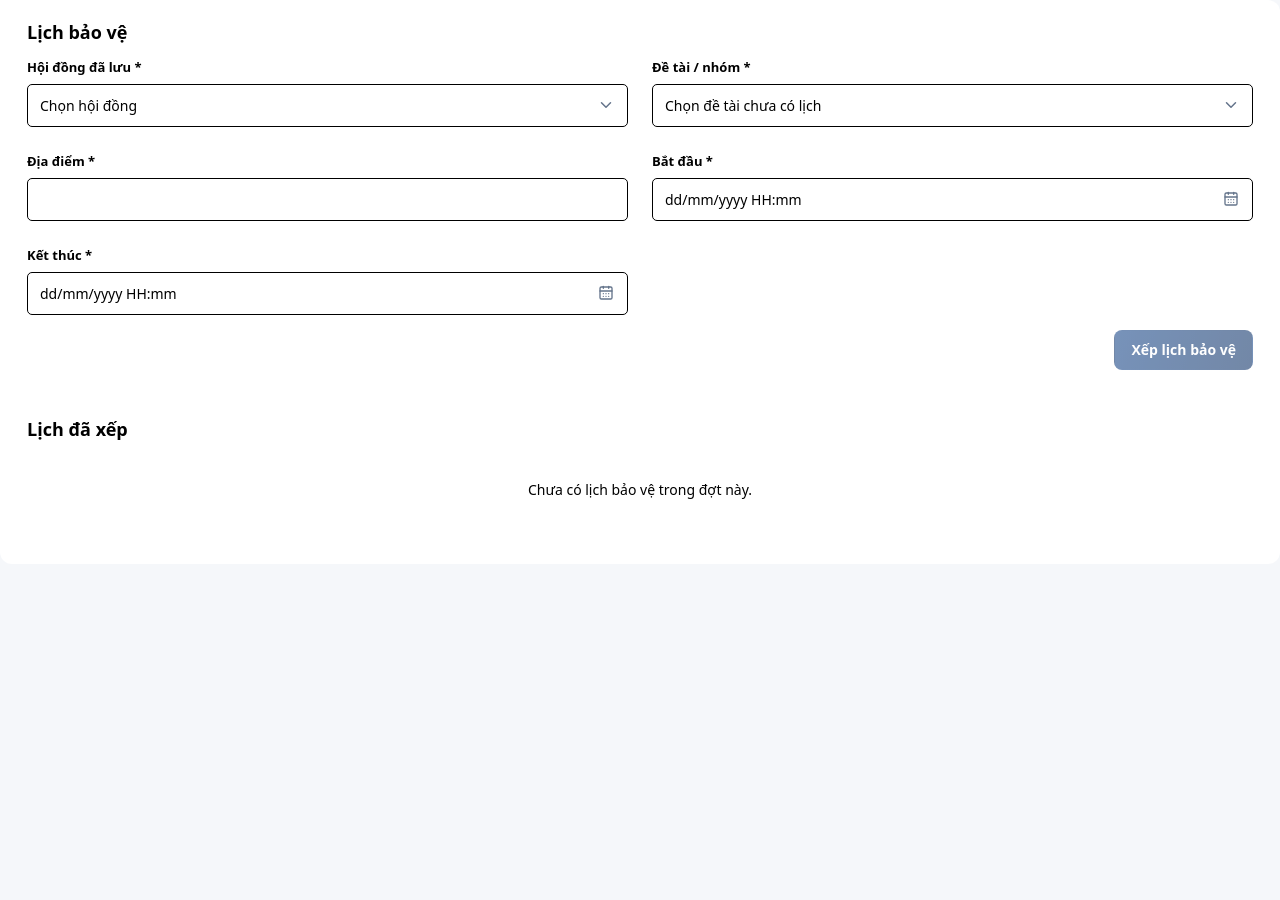
it: xác nhận đủ tên đề tài, nhóm, hội đồng và chỉ cho chọn đề tài cùng đợt
Select "Hội đồng A" in the dropdown labelled "Hội đồng đã lưu *" at (328, 105), box [27,84,628,126]
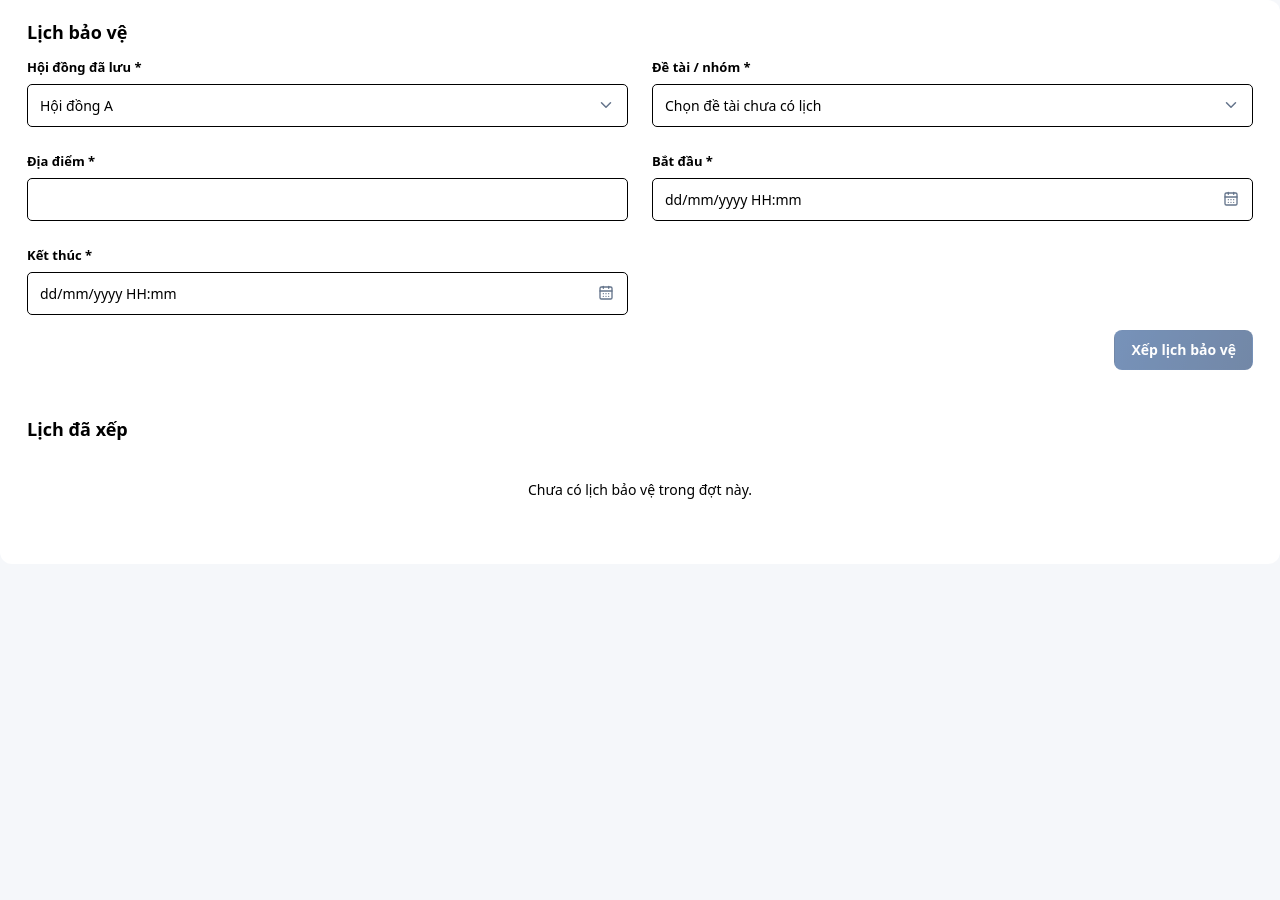
Select "DT01 · Quản lý đề tài · Nhóm A" in the dropdown labelled "Đề tài / nhóm *" at (952, 105), box [652,84,1253,126]
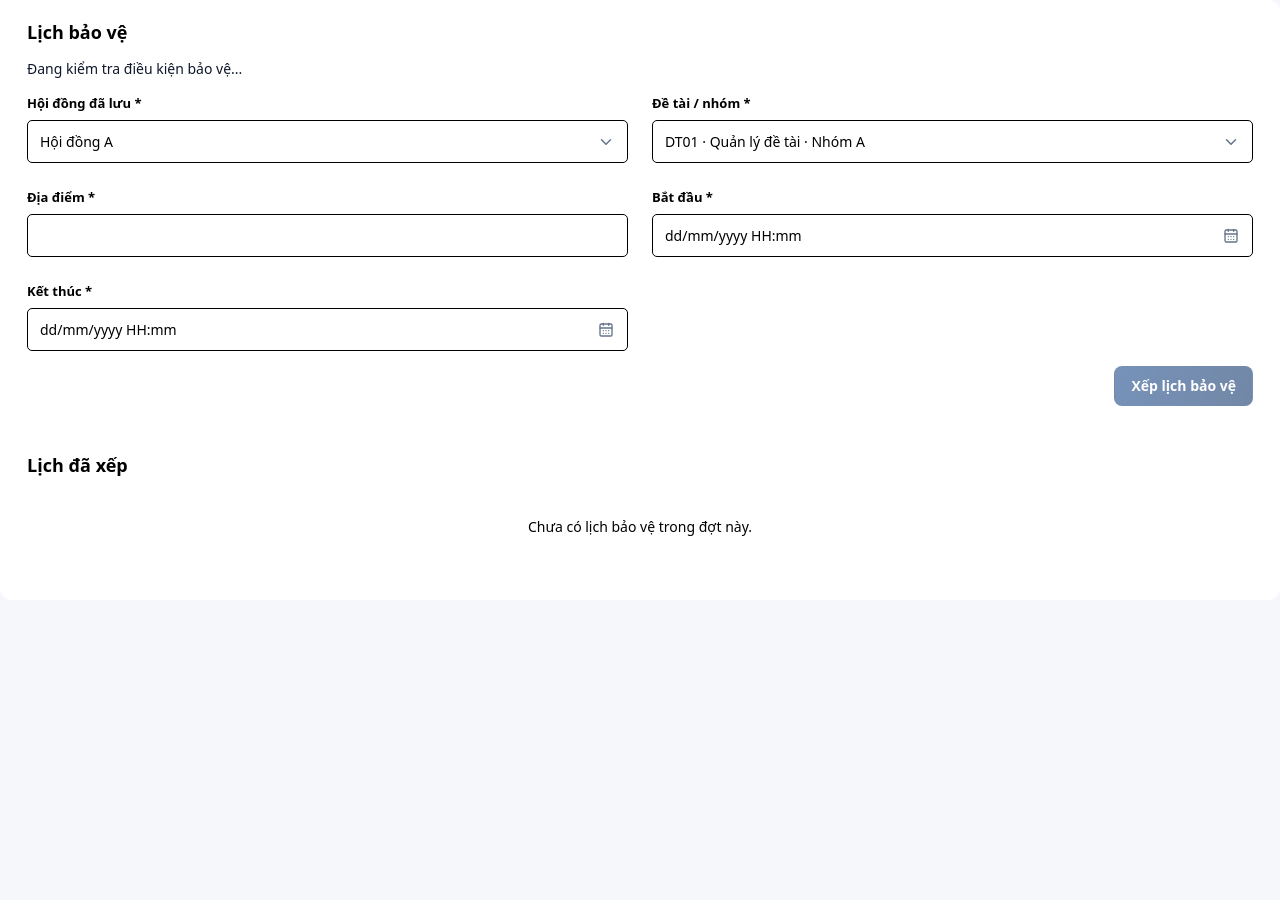
Type " A5-305 " into the field labelled "Địa điểm *" at (328, 236), box [27,214,628,257]
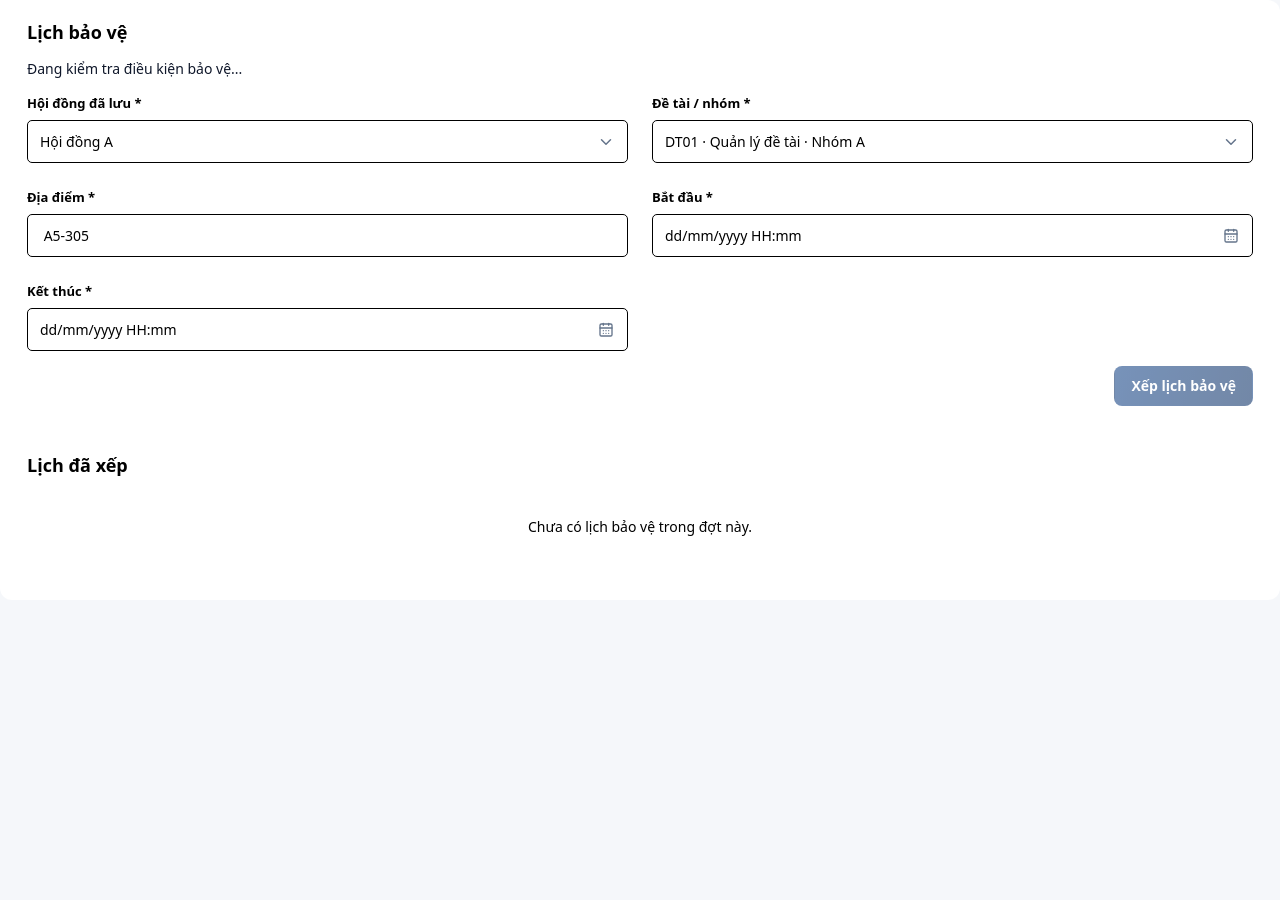
Type "20/02/2099 09:00 AM" into the field labelled "Bắt đầu *" at (952, 236), box [652,214,1253,257]
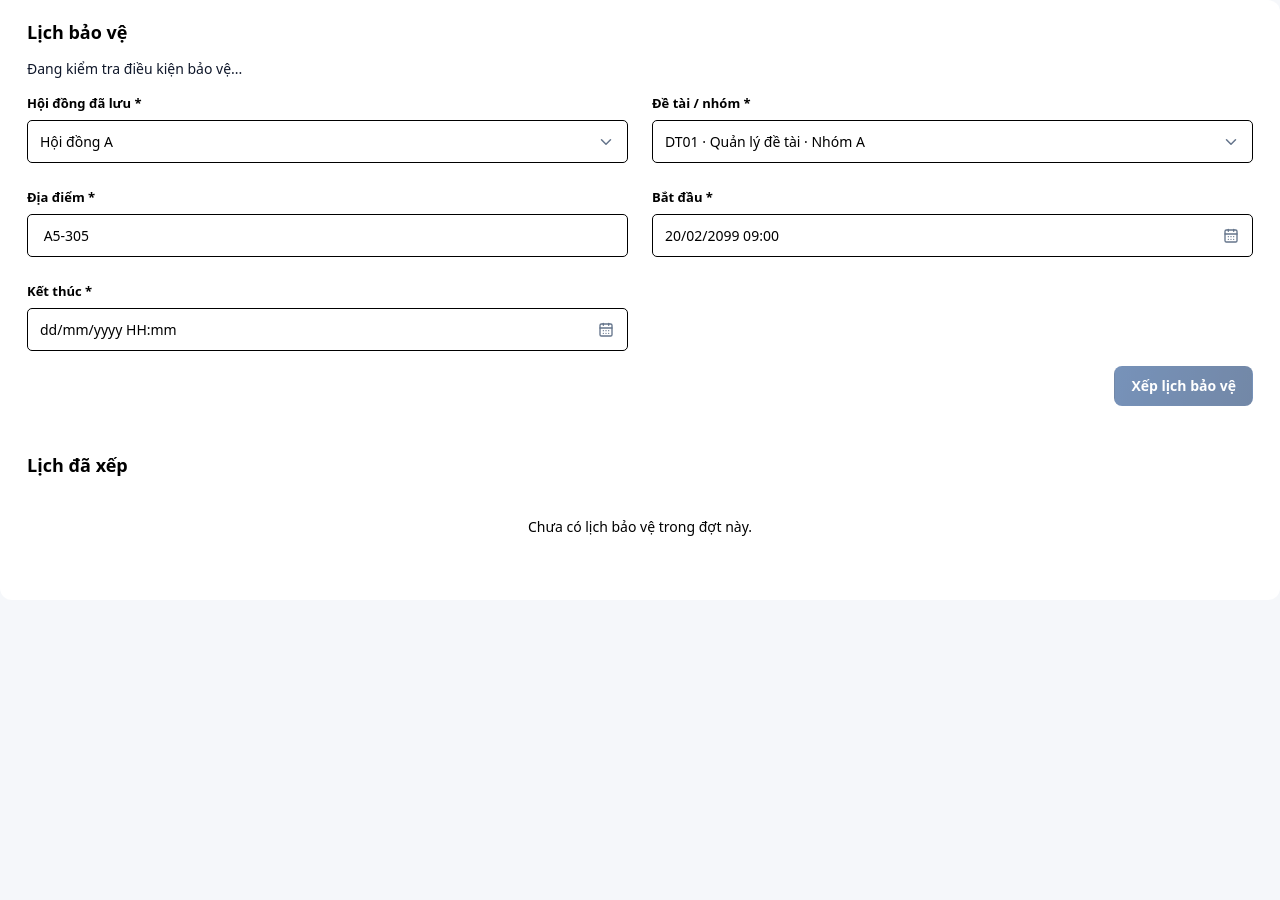
Type "20/02/2099 10:00 AM" into the field labelled "Kết thúc *" at (328, 330), box [27,308,628,351]
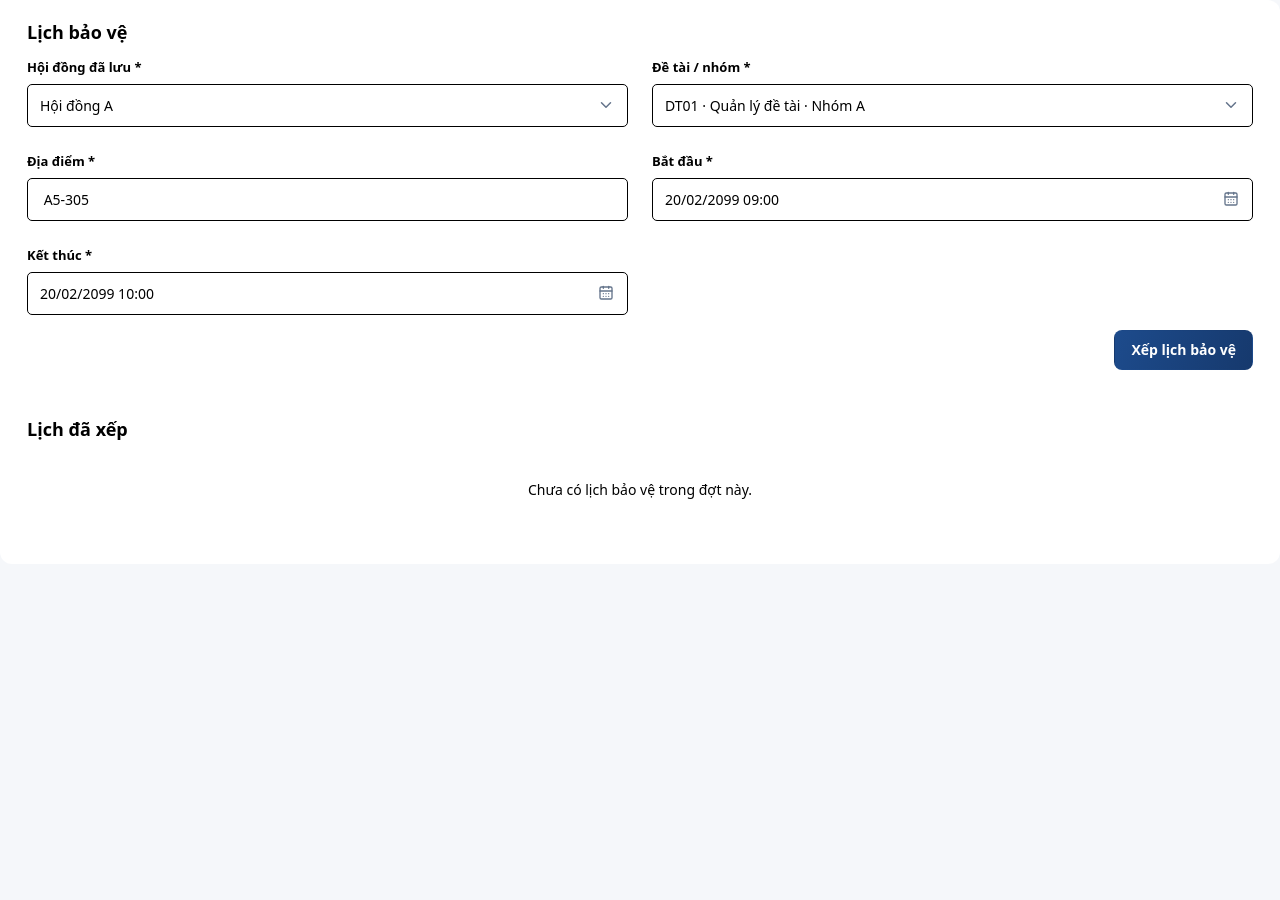
Now the button "Xếp lịch bảo vệ" is enabled
Click the button "Xếp lịch bảo vệ" at (1184, 350), box [1114,330,1253,370]
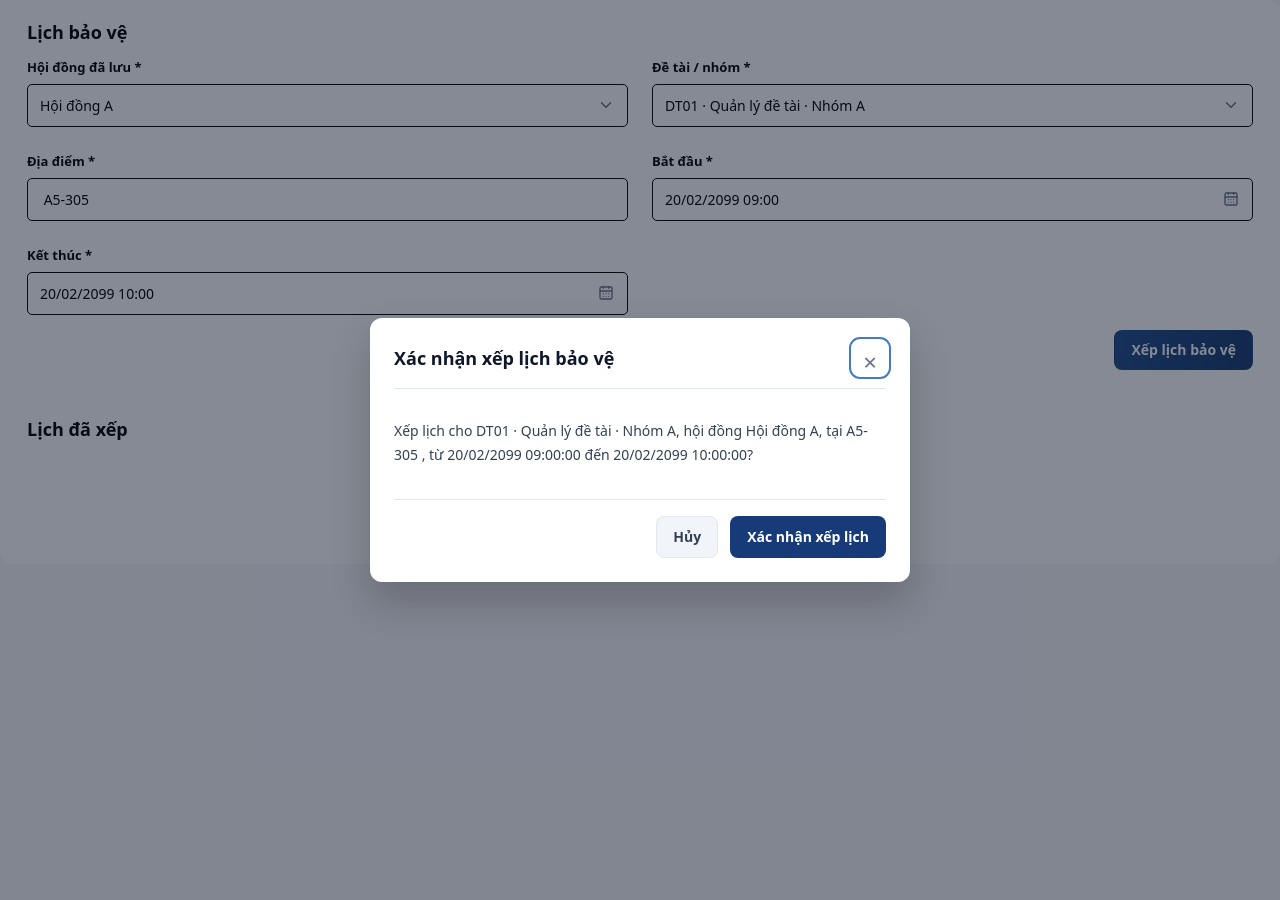
Now the dialog shows "DT01 · Quản lý đề tài · Nhóm A", box [394,421,868,464]
Now the dialog shows "hội đồng Hội đồng A", box [394,421,868,464]
Now the dialog shows "A5-305", box [394,421,868,464]
